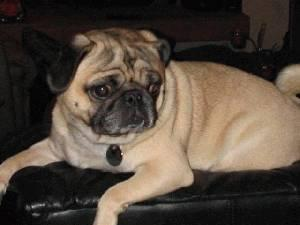dog-pug: (46, 27, 171, 134)
